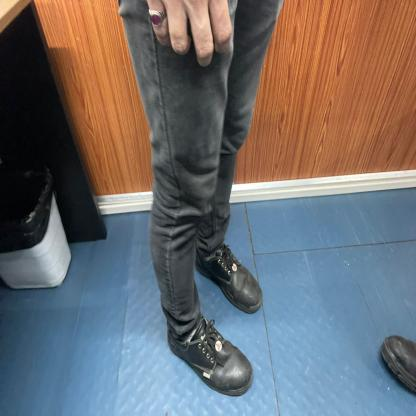bota: (166, 311, 254, 399), (196, 241, 264, 315), (375, 326, 416, 394)
